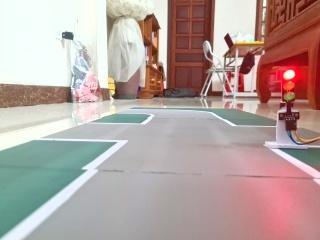red: (272, 62, 307, 115)
